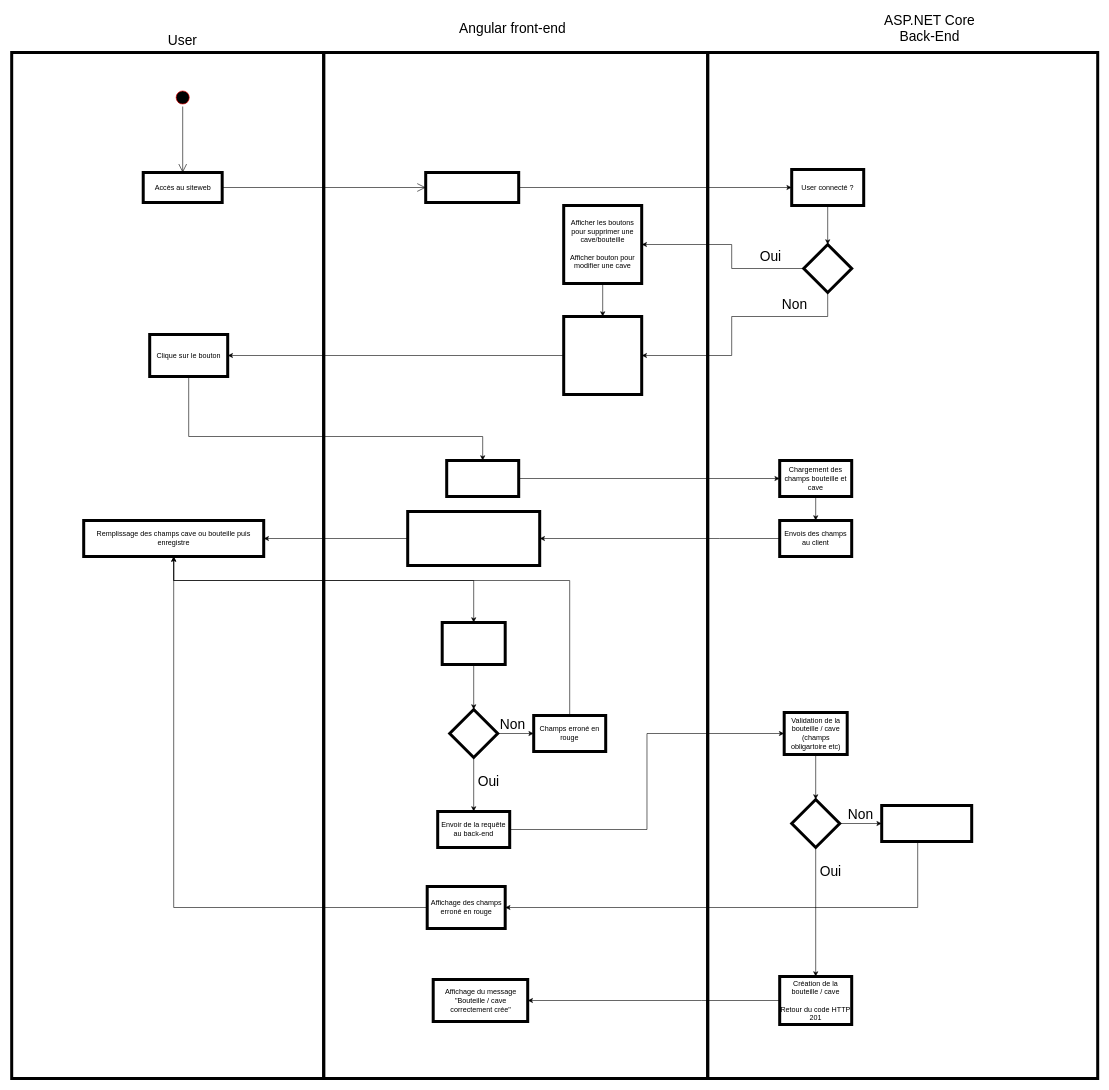
The diagram is 1109 pixels wide and 1090 high, and some of its shapes have lost their labels. The centre of each missing label's shape, as x and y in pixels:
Affichage des champs et du bouton enregistrer pour ajouter une bouteille / cave: pixel 473 538
Affichage du bouton "Ajout d'une bouteille/cave": pixel 602 355
Affichage du composent "Ajout bouteille / cave": pixel 482 478
Chargement du site: pixel 472 187
Retour du statut HTTP correspondant: pixel 926 823
Validation de la bouteille / cave: pixel 473 643
